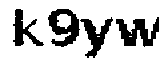9: (47, 7, 79, 47)
k: (10, 7, 43, 49)
w: (115, 15, 160, 49)
y: (80, 16, 113, 59)
